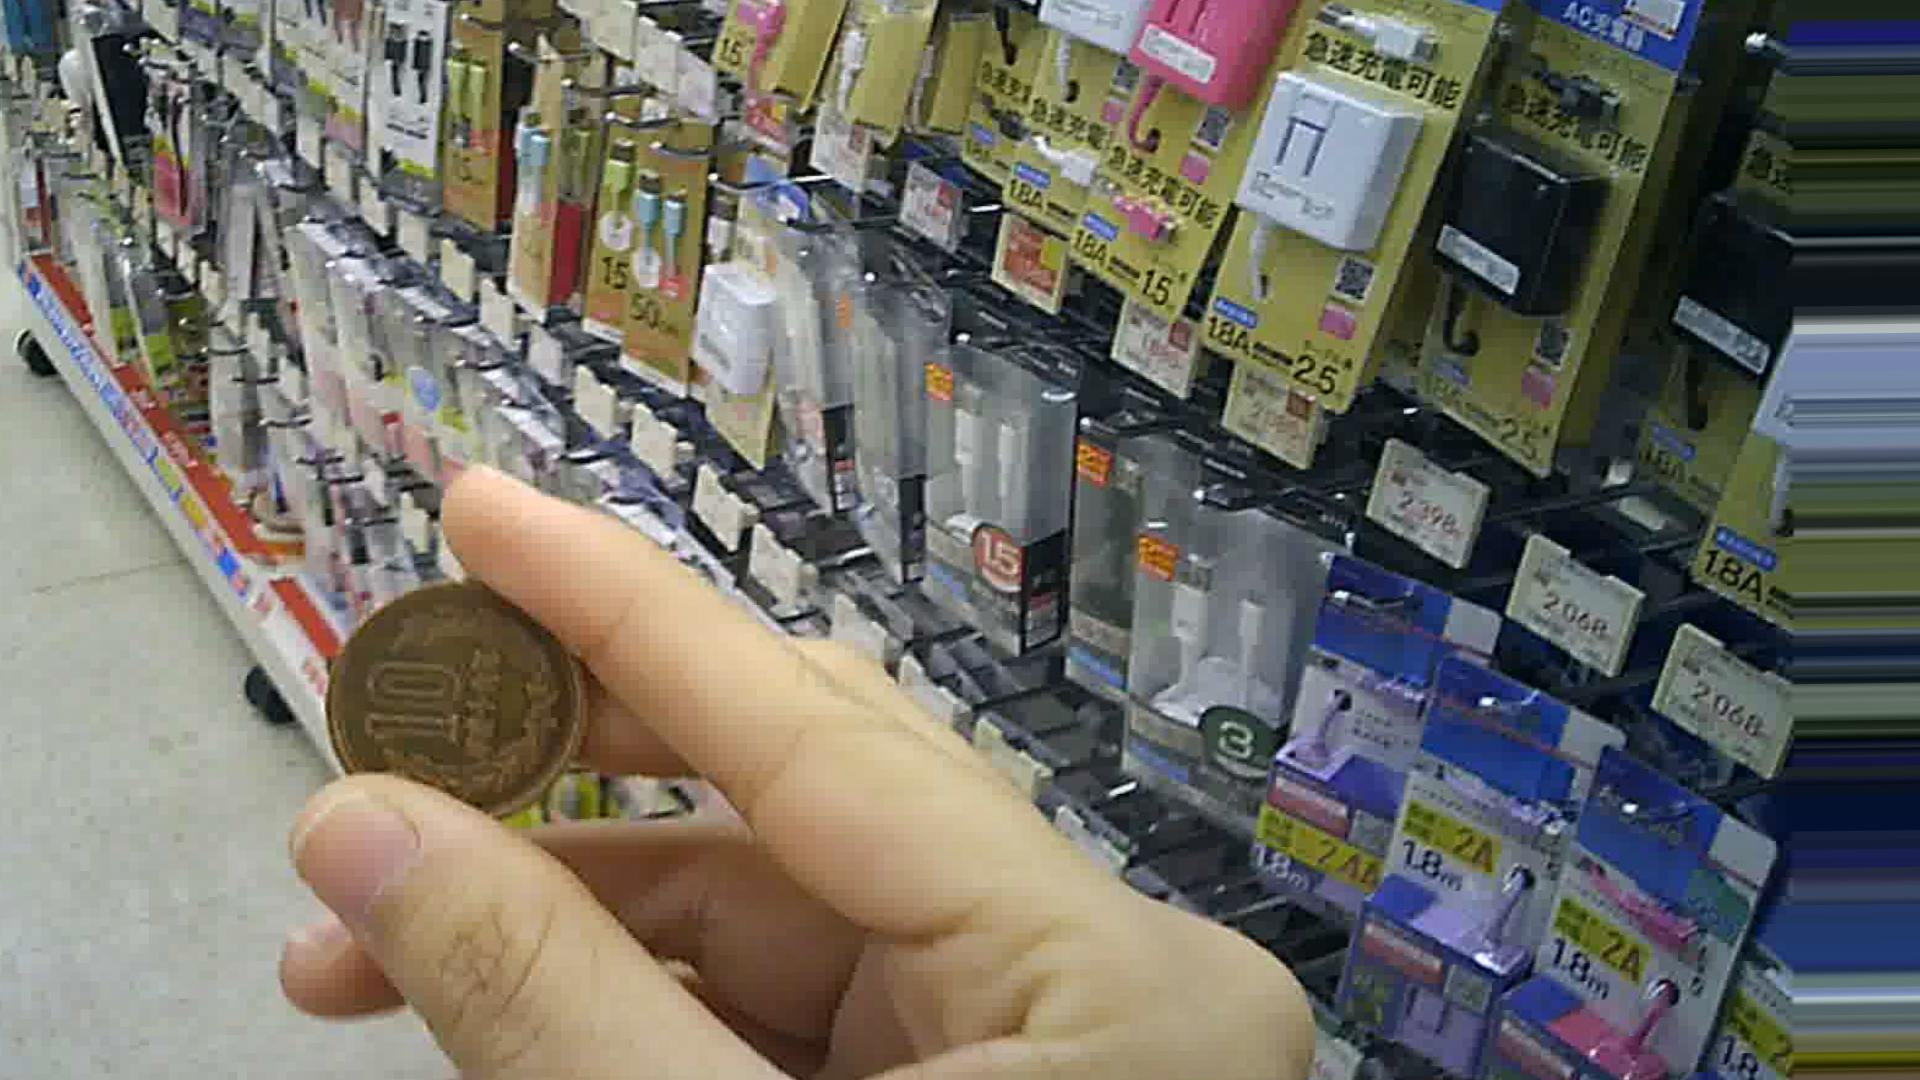10 Yen: (313, 575, 582, 807)
